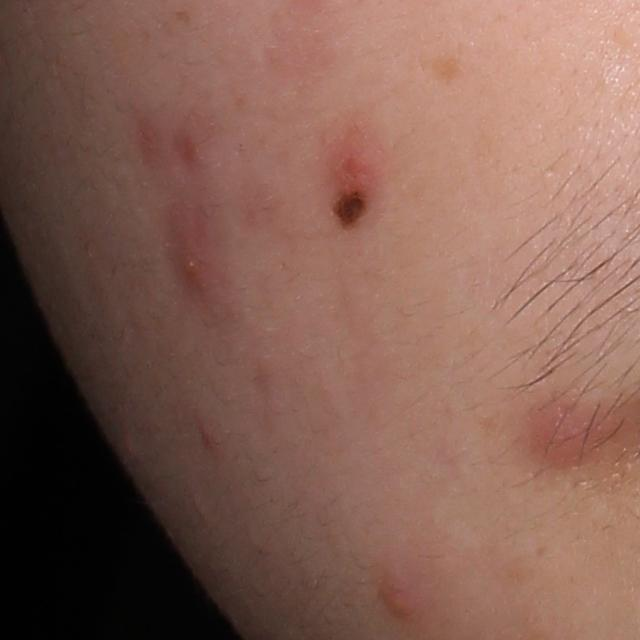nevus: (336, 195, 365, 231)
papule: (527, 402, 587, 483), (170, 212, 214, 290), (331, 146, 382, 194), (376, 576, 424, 622), (180, 135, 208, 170), (197, 416, 217, 450)
